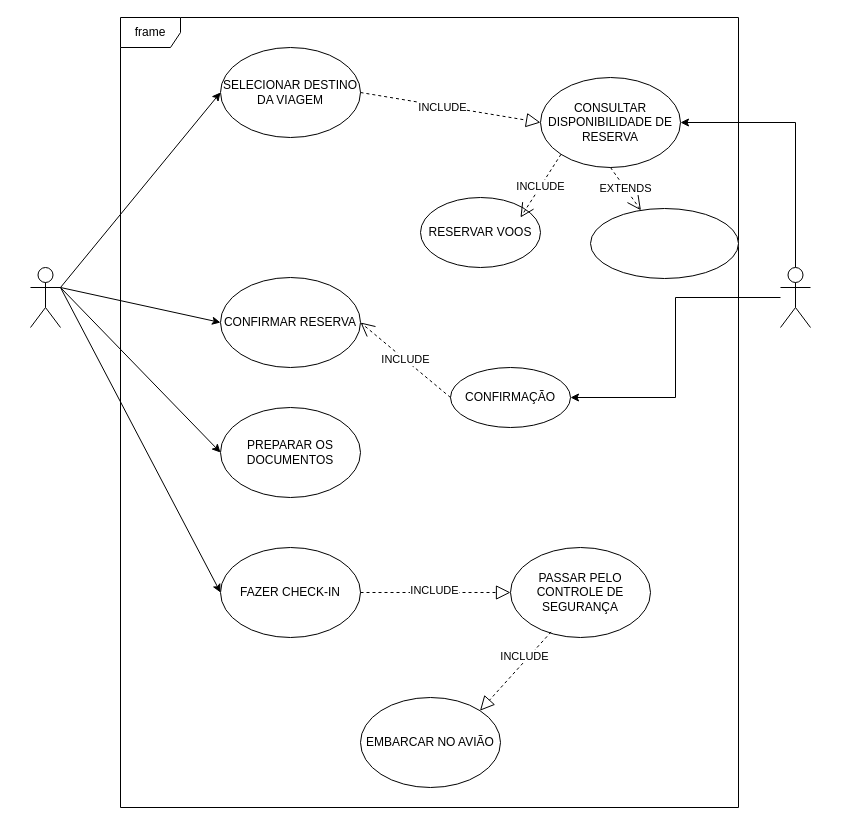
Image size: 865x825. Some labels were removed from this diagram. Here are the shapes that lost their labels. From the top down, the centre of each, then its label:
the point at 664,243: EXIBIR MENSAGEM DE INDISPONIBILIDADE
the point at 45,297: Planejador
the point at 795,297: Agência de viagens
